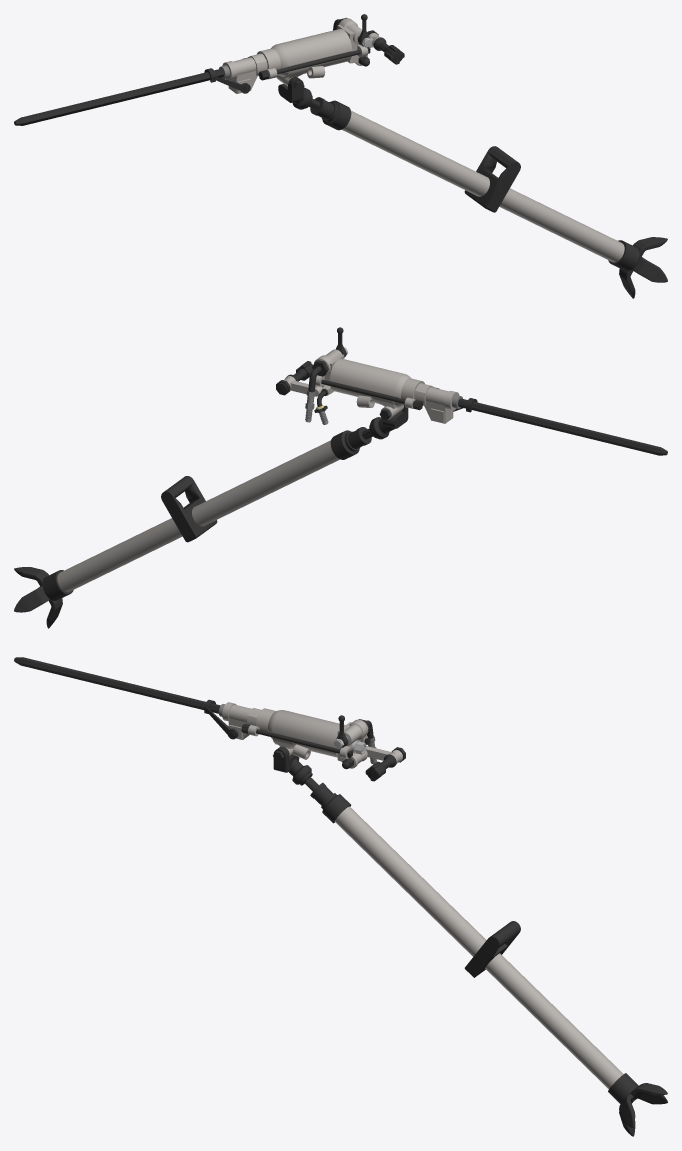
File: perforadora 1.fbx
3 renders of one model, top to bottom at view 1: azimuth 30°, elevation 25°; view 2: azimuth 150°, elevation 25°; view 3: azimuth 330°, elevation 25°, orthographic.
Parts seen in each view (by area): view 1: Cylinder.004; view 2: Cylinder.004; view 3: Cylinder.004.
Boxes of the visible parts, x1,y1,x2,y2 form: Cylinder.004: (14,14,667,298); Cylinder.004: (14,327,667,628); Cylinder.004: (14,657,667,1136).
Size of the model in its own units: 222 by 117 by 23.29.
5 materials, 1 textured.
